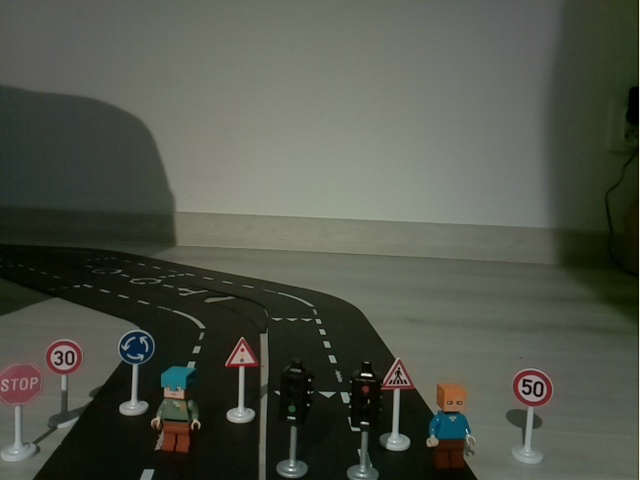green light: (273, 358, 315, 480)
limit 30: (44, 336, 80, 430)
limit 50: (509, 365, 553, 466)
person: (427, 380, 478, 479)
red light: (346, 359, 379, 480)
round: (114, 328, 155, 415)
second person: (154, 360, 205, 457)
stop: (1, 360, 43, 465)
traffic light sign: (220, 335, 260, 426), (382, 355, 413, 455)
